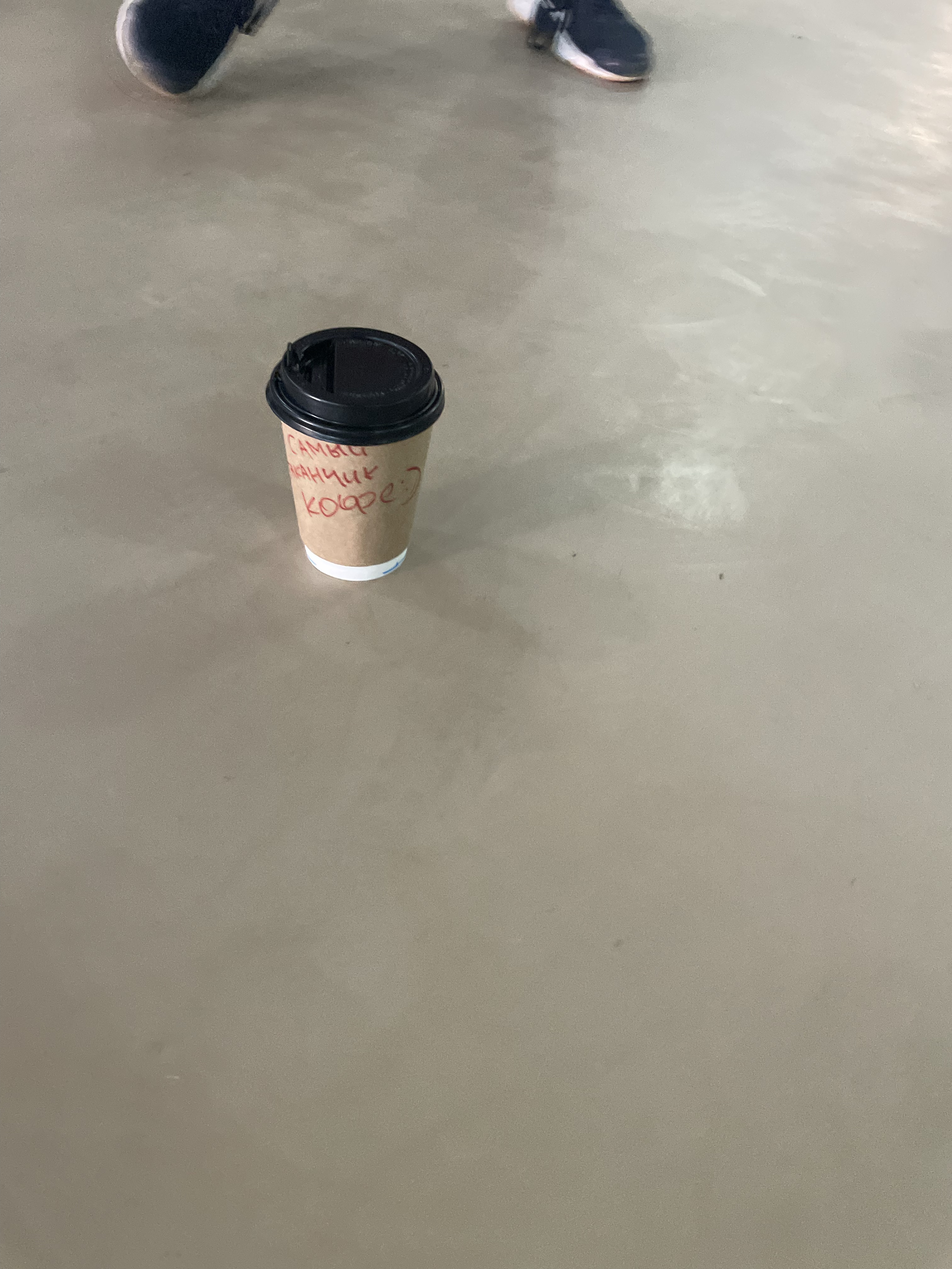cup: (266, 327, 445, 583)
